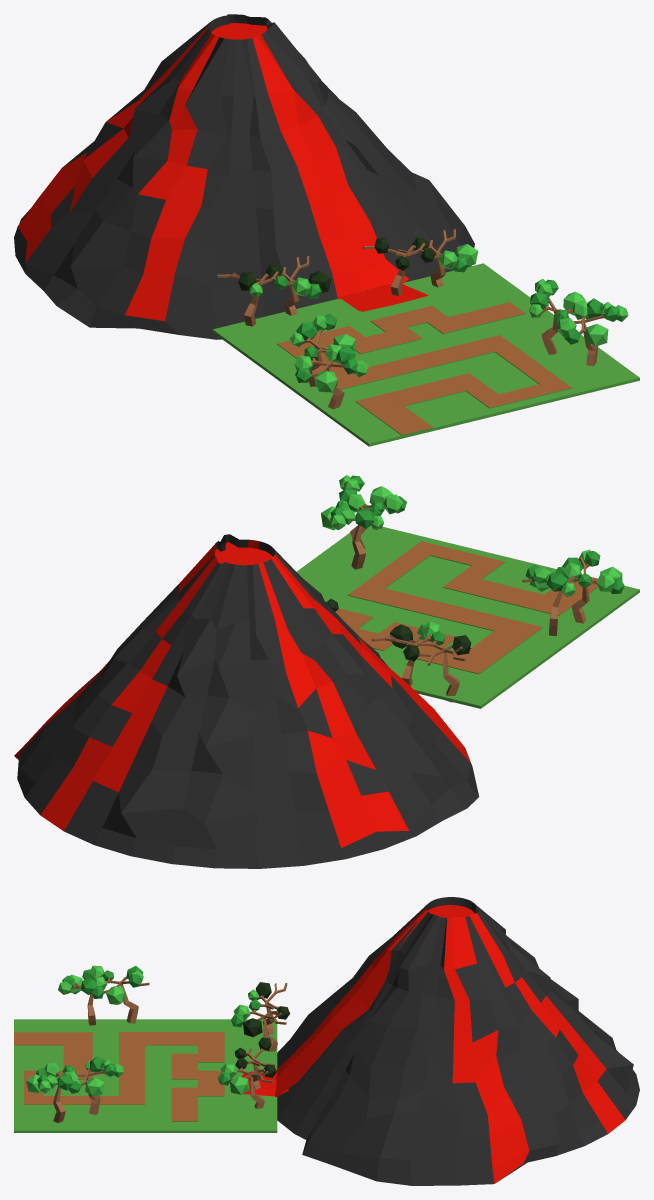
File: mapa_pravěk.fbx
3 renders of one model, top to bottom at view 1: azimuth 30°, elevation 25°; view 2: azimuth 150°, elevation 25°; view 3: azimuth 270°, elevation 25°, orthographic. The views are drawn at different scales.
Visible parts, largest first — view 1: Cylinder, Cube, Cylinder.001, Cube.009; view 2: Cylinder, Cube, Cube.006; view 3: Cylinder, Cube, Cylinder.001, Cube.009, Cube.003, Cube.008.
Boxes of the visible parts, bbox=[...] form: Cylinder: bbox=[14, 14, 474, 339]; Cube: bbox=[212, 263, 639, 446]; Cylinder.001: bbox=[252, 35, 408, 299]; Cube.009: bbox=[339, 284, 428, 311]; Cylinder: bbox=[14, 534, 479, 868]; Cube: bbox=[296, 525, 639, 708]; Cube.006: bbox=[418, 640, 465, 702]; Cylinder: bbox=[277, 897, 639, 1185]; Cube: bbox=[14, 1019, 277, 1132]; Cylinder.001: bbox=[274, 908, 427, 1097]; Cube.009: bbox=[241, 1069, 288, 1096]; Cube.003: bbox=[230, 1067, 273, 1108]; Cube.008: bbox=[103, 977, 149, 1023].
Size of the model in its own units: 5975 by 3319 by 9510.
